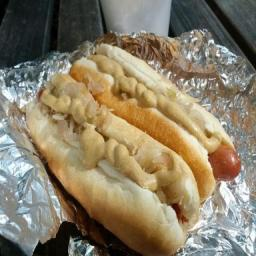hotdog: (210, 143, 244, 194), (33, 81, 49, 99)
